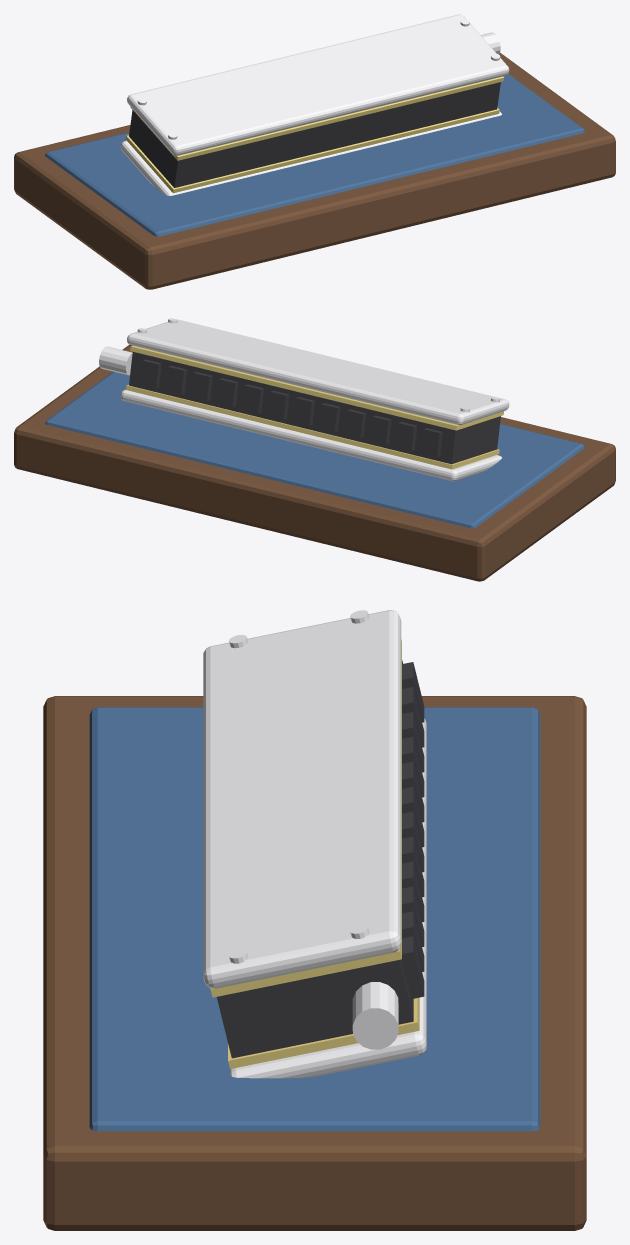
Rendered from chromatic_harmonica.glb.
The picture shows the model from 3 angles, top to bottom: view 1: azimuth 30°, elevation 25°; view 2: azimuth 150°, elevation 25°; view 3: azimuth 270°, elevation 25°; orthographic projection. The views are drawn at different scales.
Visible parts, largest first — view 1: DisplayCase, CoverPlate_1, VelvetCushion, HarmonicaComb, ReedPlate_-0.052, ReedPlate_0.052, CoverPlate_-1; view 2: DisplayCase, VelvetCushion, CoverPlate_1, HarmonicaComb, CoverPlate_-1, ReedPlate_0.052, ReedPlate_-0.052, SliderButton, SoundHole_5, SoundHole_10, SoundHole_8, SoundHole_2 (+8 smaller); view 3: VelvetCushion, DisplayCase, CoverPlate_1, HarmonicaComb, CoverPlate_-1, SliderButton, ReedPlate_0.052, ReedPlate_-0.052, SoundHole_12.
Part boxes in pixels (x1,y1,x2,y2): DisplayCase: (14, 52, 615, 289); CoverPlate_1: (127, 14, 509, 155); VelvetCushion: (45, 74, 584, 236); HarmonicaComb: (129, 82, 500, 187); ReedPlate_-0.052: (125, 107, 499, 193); ReedPlate_0.052: (130, 76, 503, 160); CoverPlate_-1: (120, 111, 501, 195); DisplayCase: (14, 344, 615, 581); VelvetCushion: (45, 371, 584, 528); CoverPlate_1: (127, 319, 509, 425); HarmonicaComb: (129, 352, 500, 464); CoverPlate_-1: (120, 389, 501, 481); ReedPlate_0.052: (130, 345, 503, 430); ReedPlate_-0.052: (125, 384, 499, 469); SliderButton: (99, 346, 132, 375); SoundHole_5: (318, 403, 340, 432); SoundHole_10: (191, 372, 212, 401); SoundHole_8: (242, 384, 263, 413); SoundHole_2: (395, 422, 417, 450); VelvetCushion: (89, 707, 540, 1131); DisplayCase: (43, 696, 586, 1230); CoverPlate_1: (203, 610, 401, 988); HarmonicaComb: (216, 660, 413, 1058); CoverPlate_-1: (230, 718, 426, 1078); SliderButton: (352, 982, 398, 1049); ReedPlate_0.052: (210, 639, 401, 997); ReedPlate_-0.052: (228, 997, 419, 1068); SoundHole_12: (401, 936, 424, 999).
Size of the model in its own units: 1.4 by 0.3347 by 0.7.
